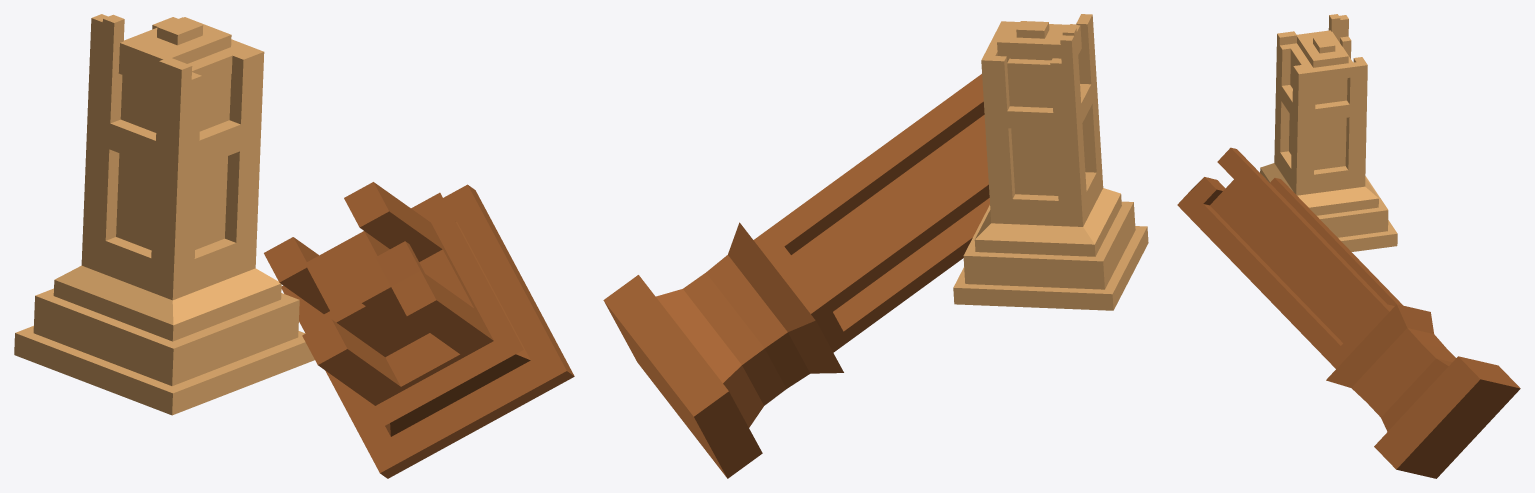
The picture shows the model from 3 angles, left to right: view 1: azimuth 30°, elevation 25°; view 2: azimuth 150°, elevation 25°; view 3: azimuth 270°, elevation 25°; orthographic projection. The views are drawn at different scales.
Parts seen in each view (by area): view 1: Medium Pillar, Large Pillar; view 2: Large Pillar, Medium Pillar; view 3: Large Pillar, Medium Pillar.
Boxes of the visible parts, x1=… form: Medium Pillar: x1=14, y1=14, x2=314, y2=415; Large Pillar: x1=264, y1=182, x2=574, y2=478; Large Pillar: x1=603, y1=74, x2=989, y2=478; Medium Pillar: x1=953, y1=14, x2=1148, y2=310; Large Pillar: x1=1177, y1=147, x2=1520, y2=478; Medium Pillar: x1=1260, y1=14, x2=1397, y2=251.
Bounding box in the file's own units: 1.92 × 1.9 × 1.64.
